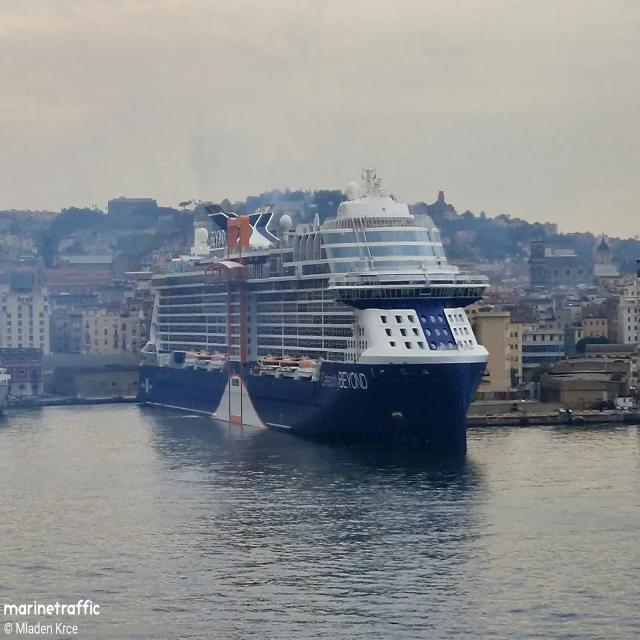Cruise: (137, 169, 488, 456)
